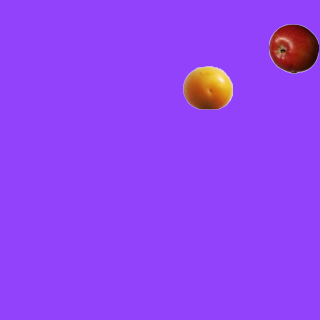Apple Braeburn: (268, 23, 318, 73)
Cherry Wax Yellow: (182, 62, 232, 112)
